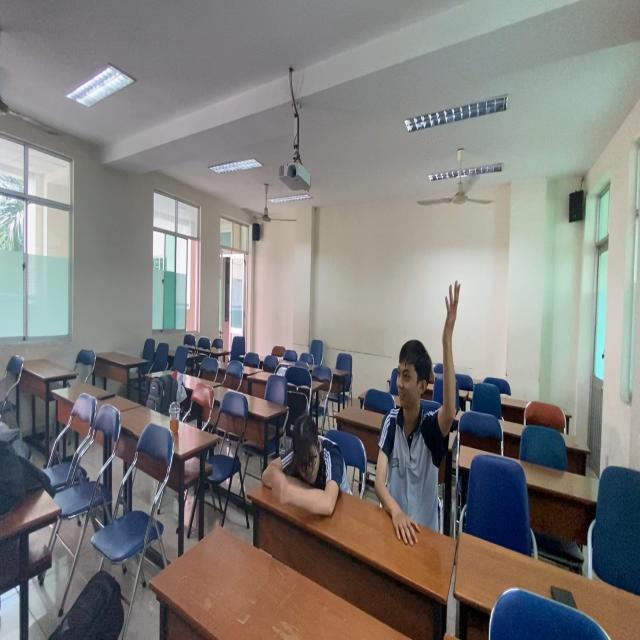raise_hand: (375, 274, 467, 513)
